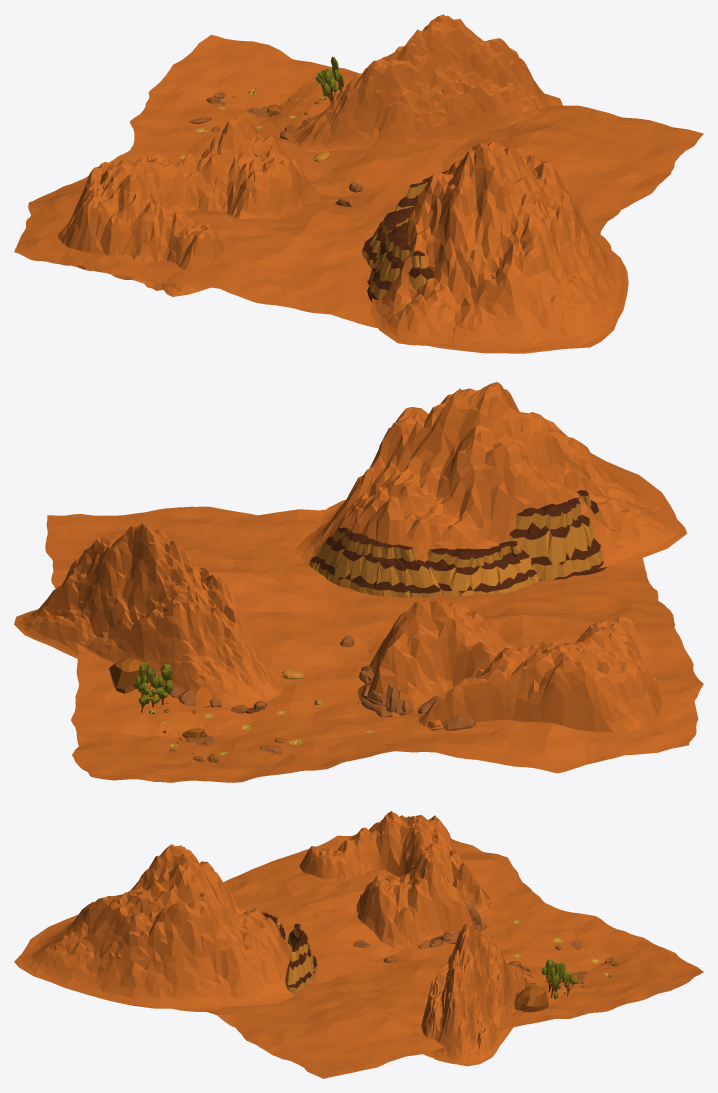
File: Environment1.fbx
3 views of the same model, one above another, from view 1: azimuth 30°, elevation 25°; view 2: azimuth 150°, elevation 25°; view 3: azimuth 270°, elevation 25° (orthographic). The views are drawn at different scales.
Visible parts, largest first — view 1: Environment, Mounting_1__1_, Mounting_2, Mounting_1, Mounting_3__2_, Mounting_3__1_; view 2: Environment, Mounting_1__1_, Mounting_2, Mounting_1, Mounting_3, Mounting_3__2_, Mounting_3__1_, Rock_6_4; view 3: Environment, Mounting_1__1_, Mounting_2, Mounting_1, Mounting_3, Rock_6_4.
Part boxes in pixels (box(x1,y1,x2,y2)): Environment: box(14, 34, 703, 327); Mounting_1__1_: box(371, 141, 628, 353); Mounting_2: box(57, 115, 321, 296); Mounting_1: box(288, 14, 562, 152); Mounting_3__2_: box(367, 222, 434, 301); Mounting_3__1_: box(362, 206, 413, 269); Environment: box(45, 506, 703, 782); Mounting_1__1_: box(295, 382, 687, 568); Mounting_2: box(365, 598, 661, 732); Mounting_1: box(14, 523, 282, 709); Mounting_3: box(308, 527, 441, 597); Mounting_3__2_: box(507, 490, 606, 580); Mounting_3__1_: box(424, 541, 538, 596); Rock_6_4: box(109, 657, 145, 693); Environment: box(196, 835, 703, 1078); Mounting_1__1_: box(14, 844, 293, 1011); Mounting_2: box(300, 811, 489, 949); Mounting_1: box(421, 922, 530, 1066); Mounting_3: box(285, 923, 317, 993); Rock_6_4: box(514, 986, 548, 1012).
Bounding box in the file's own units: 19222 × 4465 × 21716.
